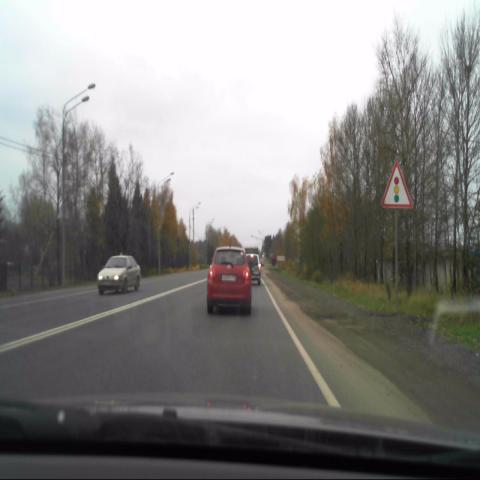1_8: (382, 158, 413, 212)
